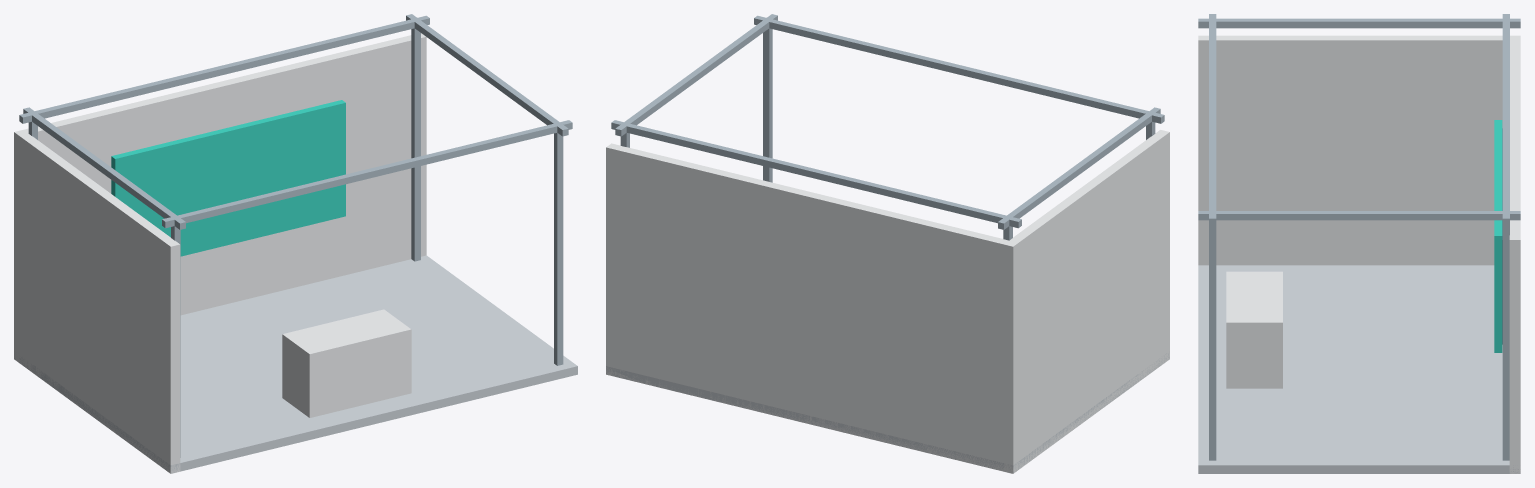
3 renders of one model, left to right at view 1: azimuth 30°, elevation 25°; view 2: azimuth 150°, elevation 25°; view 3: azimuth 270°, elevation 25°, orthographic. The views are drawn at different scales.
Parts seen in each view (by area): view 1: Exhibition Booth Concept; view 2: Exhibition Booth Concept; view 3: Exhibition Booth Concept.
Part boxes in pixels (x1,y1,x2,y2): Exhibition Booth Concept: (14, 14, 577, 473); Exhibition Booth Concept: (606, 14, 1169, 473); Exhibition Booth Concept: (1198, 14, 1520, 473).
Size of the model in its own units: 6 by 3.49 by 4.
